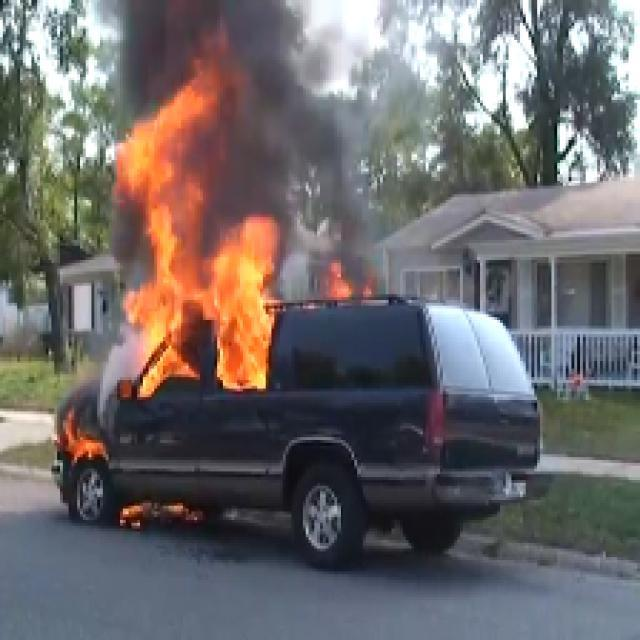Fire: (198, 215, 274, 400), (134, 140, 188, 348)
Smoke: (240, 1, 323, 180), (307, 187, 374, 272)
